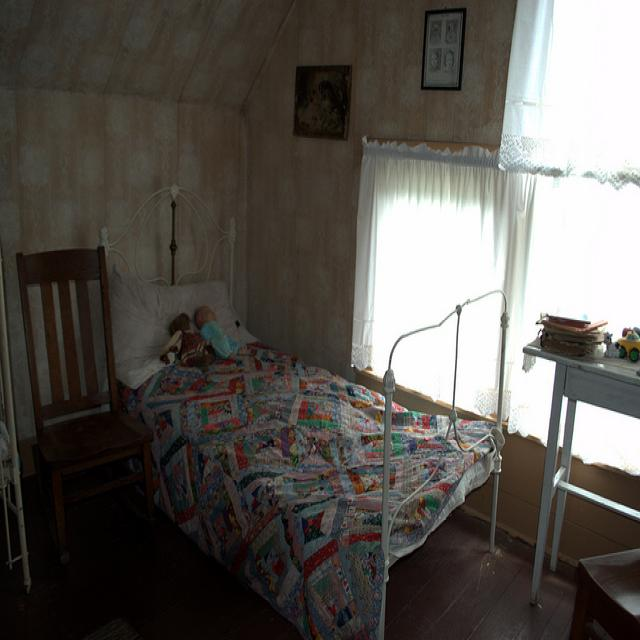Table: (526, 311, 640, 545)
chair: (15, 231, 126, 561)
